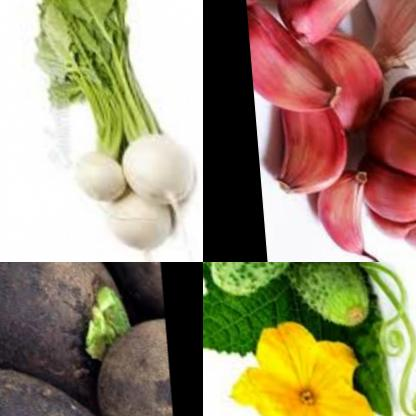cucumber: (203, 262, 395, 307), (266, 262, 371, 328)
garlic: (340, 61, 416, 260), (244, 0, 341, 113), (262, 99, 345, 199), (312, 32, 383, 134), (306, 158, 375, 262), (275, 0, 382, 52), (360, 0, 416, 84)
redka: (0, 262, 135, 399), (85, 307, 172, 416), (0, 357, 146, 416), (105, 122, 197, 206), (93, 182, 175, 258), (91, 262, 162, 313), (65, 145, 120, 204)
